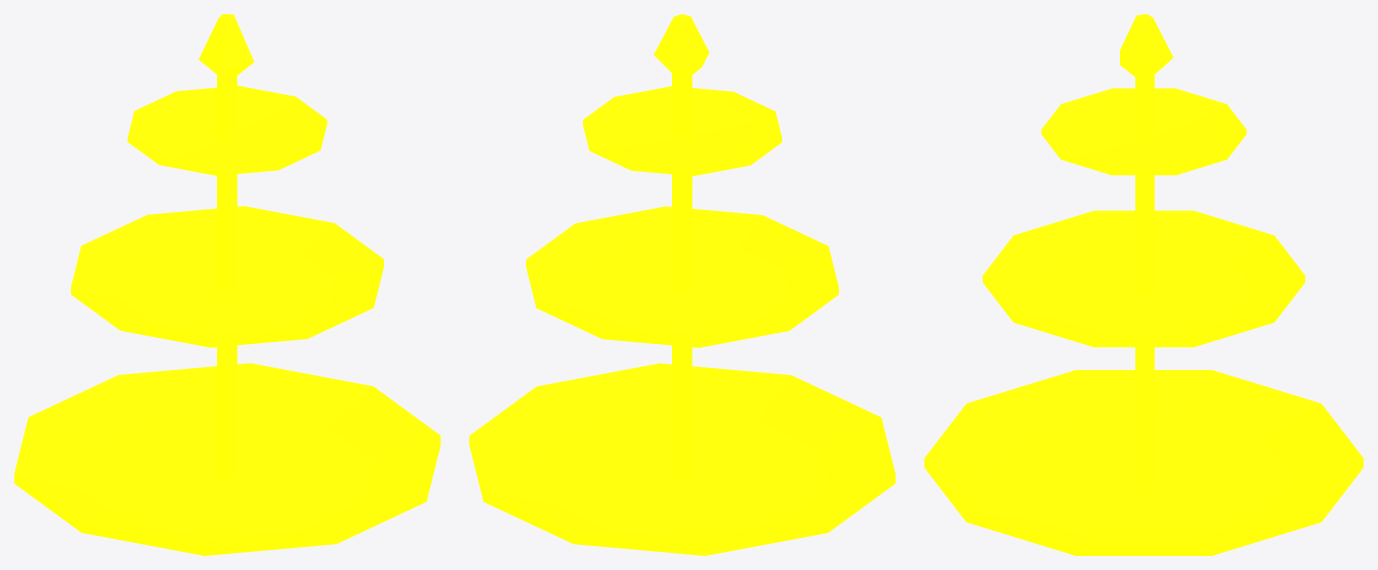
File: etagere-christmas.glb
The picture shows the model from 3 angles, left to right: view 1: azimuth 30°, elevation 25°; view 2: azimuth 150°, elevation 25°; view 3: azimuth 270°, elevation 25°; orthographic projection.
Parts seen in each view (by area): view 1: etagere_christmas; view 2: etagere_christmas; view 3: etagere_christmas.
Part boxes in pixels (box(x1,y1,x2,y2)): etagere_christmas: box(14, 14, 440, 555); etagere_christmas: box(469, 14, 895, 555); etagere_christmas: box(924, 14, 1363, 555).
Size of the model in its own units: 0.2995 by 0.3728 by 0.315.
1 material, 1 textured.
